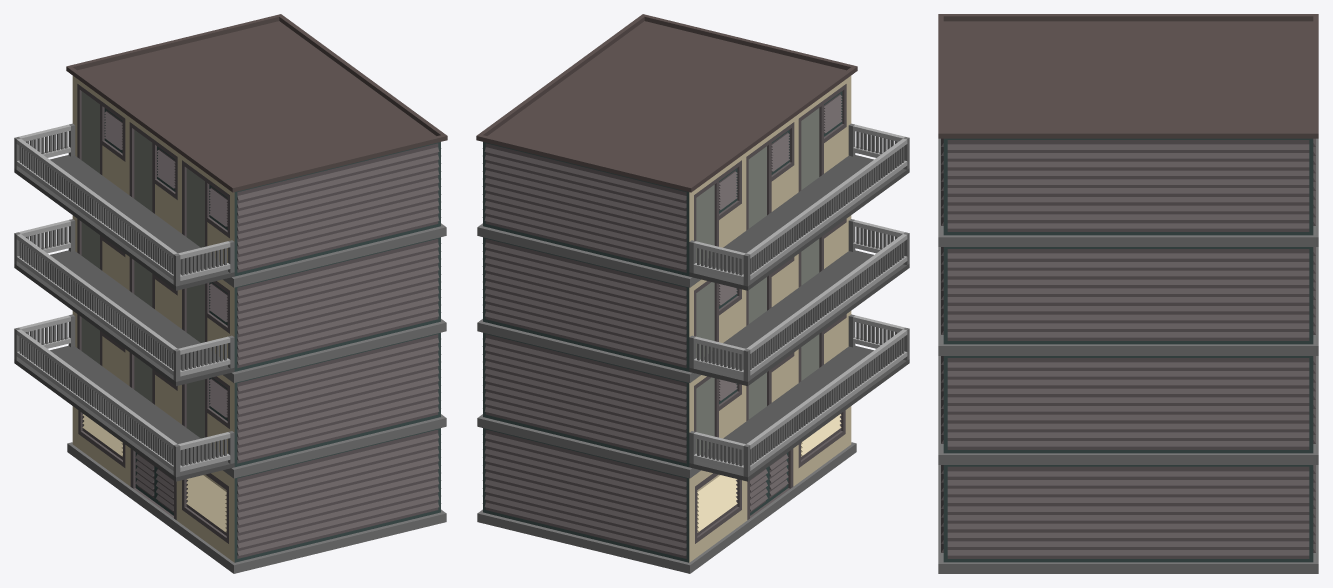
Rendered from APARYMENT 1.fbx.
3 views of the same model, side by side, from view 1: azimuth 30°, elevation 25°; view 2: azimuth 150°, elevation 25°; view 3: azimuth 270°, elevation 25° (orthographic). The views are drawn at different scales.
Visible parts, largest first — view 1: building_001; view 2: building_001; view 3: building_001.
Boxes of the visible parts, box(x1,y1,x2,y2) form: building_001: box(14, 14, 447, 573); building_001: box(476, 14, 909, 573); building_001: box(938, 14, 1318, 573).
Size of the model in its own units: 650 by 890 by 696.
